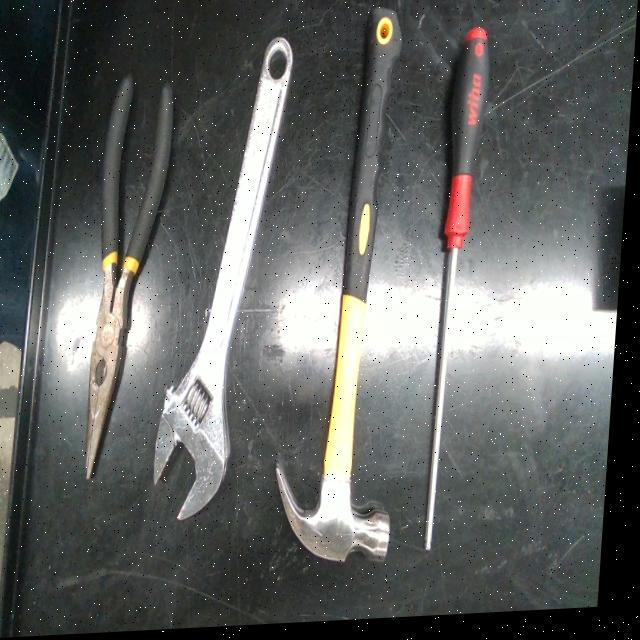Screwdriver: (433, 31, 491, 555)
